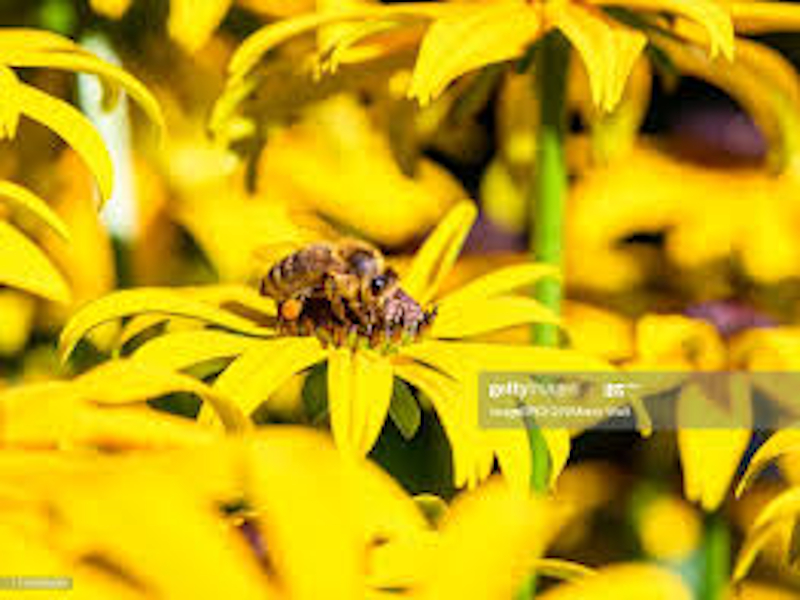abeja: (232, 204, 401, 335)
